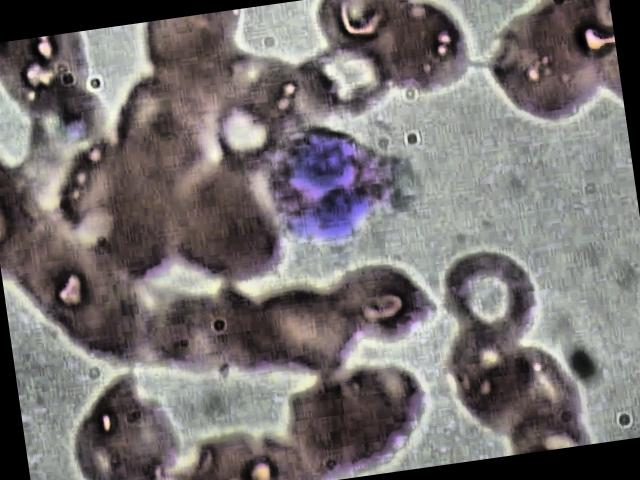RBC: (280, 355, 441, 480), (478, 4, 612, 132), (54, 364, 191, 480), (242, 271, 366, 391), (434, 322, 550, 446), (165, 189, 288, 297), (434, 244, 555, 352), (362, 1, 475, 105), (332, 253, 446, 356), (290, 40, 400, 132), (204, 89, 294, 182)
WBC: (258, 114, 409, 250)
